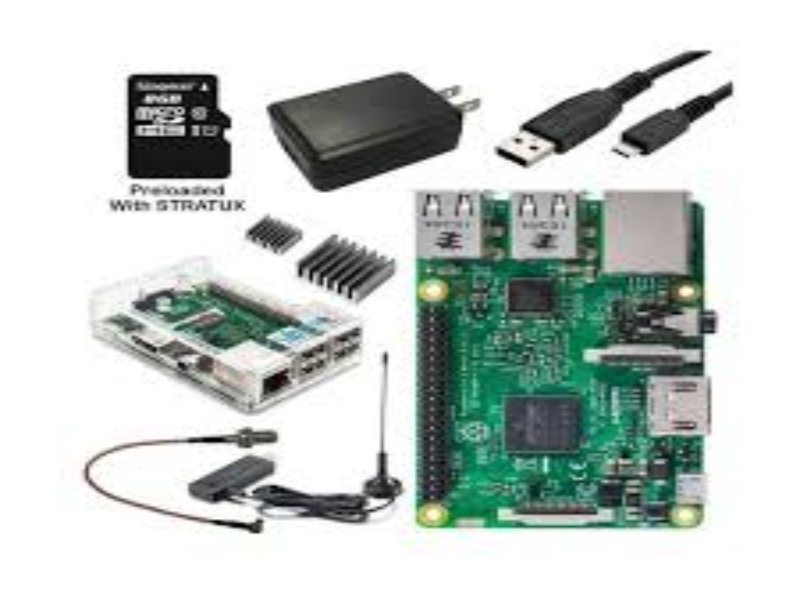raspberrypi: (397, 179, 723, 544), (74, 253, 371, 409)
